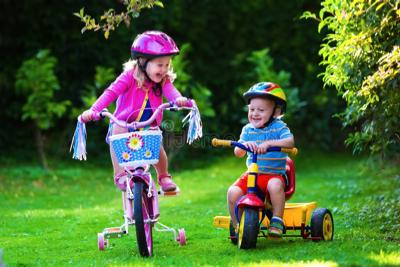With Helmet: (123, 27, 183, 85), (240, 82, 289, 131)
